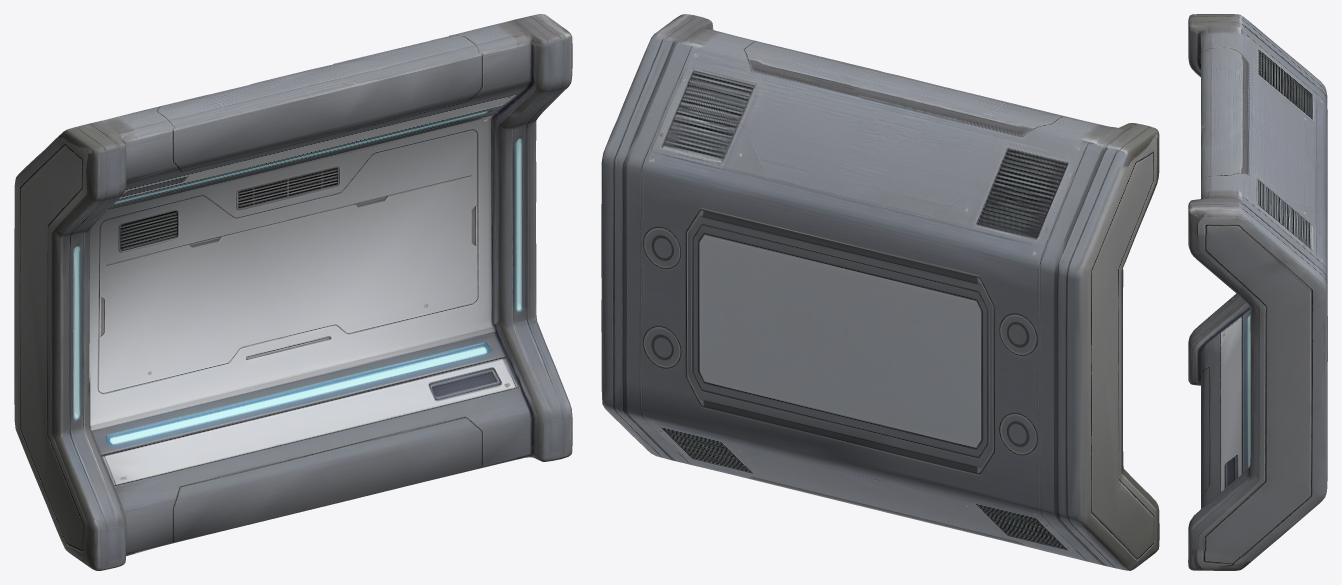
File: wall.glb
The picture shows the model from 3 angles, left to right: view 1: azimuth 30°, elevation 25°; view 2: azimuth 150°, elevation 25°; view 3: azimuth 270°, elevation 25°; orthographic projection. The views are drawn at different scales.
Visible parts, largest first — view 1: Mesh1.0; view 2: Mesh1.0; view 3: Mesh1.0.
Part boxes in pixels (left/top/right/bottom): Mesh1.0: left=14, top=14, right=572, bottom=570; Mesh1.0: left=601, top=14, right=1159, bottom=570; Mesh1.0: left=1188, top=14, right=1327, bottom=570.
Size of the model in its own units: 2.39 by 2 by 0.7001.
Materials: 1 (1 with a texture image).
